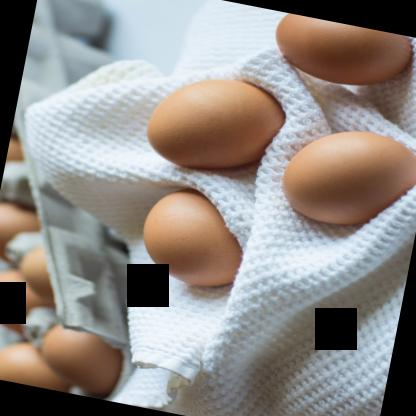egg: (271, 117, 415, 240), (140, 63, 280, 180), (129, 184, 258, 294), (264, 10, 415, 99), (31, 320, 129, 396), (0, 338, 80, 393), (0, 262, 51, 340), (13, 240, 70, 303), (0, 198, 50, 269)
